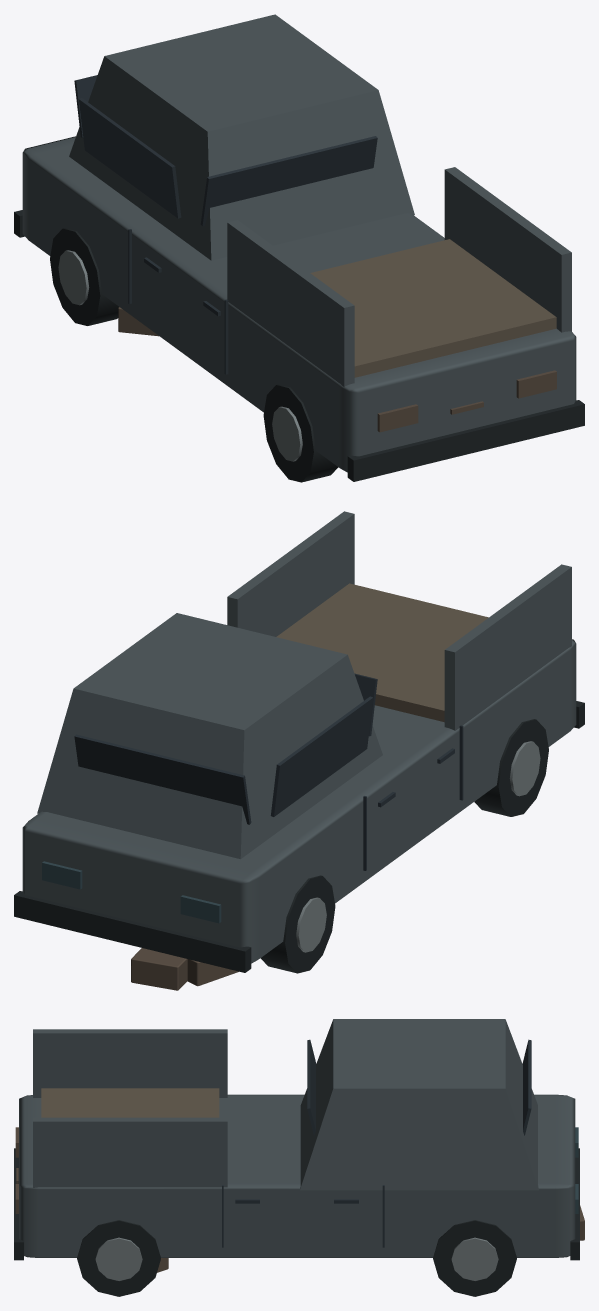
File: pickup-wreck-1.glb
3 renders of one model, top to bottom at view 1: azimuth 30°, elevation 25°; view 2: azimuth 150°, elevation 25°; view 3: azimuth 270°, elevation 25°, orthographic. The views are drawn at different scales.
Parts seen in each view (by area): view 1: pickup-wreck/0/KR-230-1; view 2: pickup-wreck/0/KR-230-1; view 3: pickup-wreck/0/KR-230-1.
Boxes of the visible parts, x1,y1,x2,y2 form: pickup-wreck/0/KR-230-1: (14,14,584,482); pickup-wreck/0/KR-230-1: (14,511,584,990); pickup-wreck/0/KR-230-1: (14,1019,584,1296).
Bounding box in the file's own units: 1.87 × 1.8 × 4.62.
